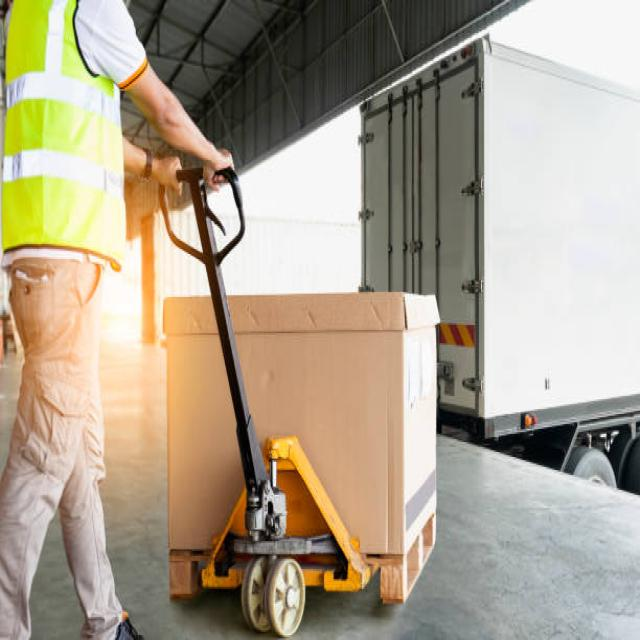Wooden-Pallets: (381, 505, 441, 607)
